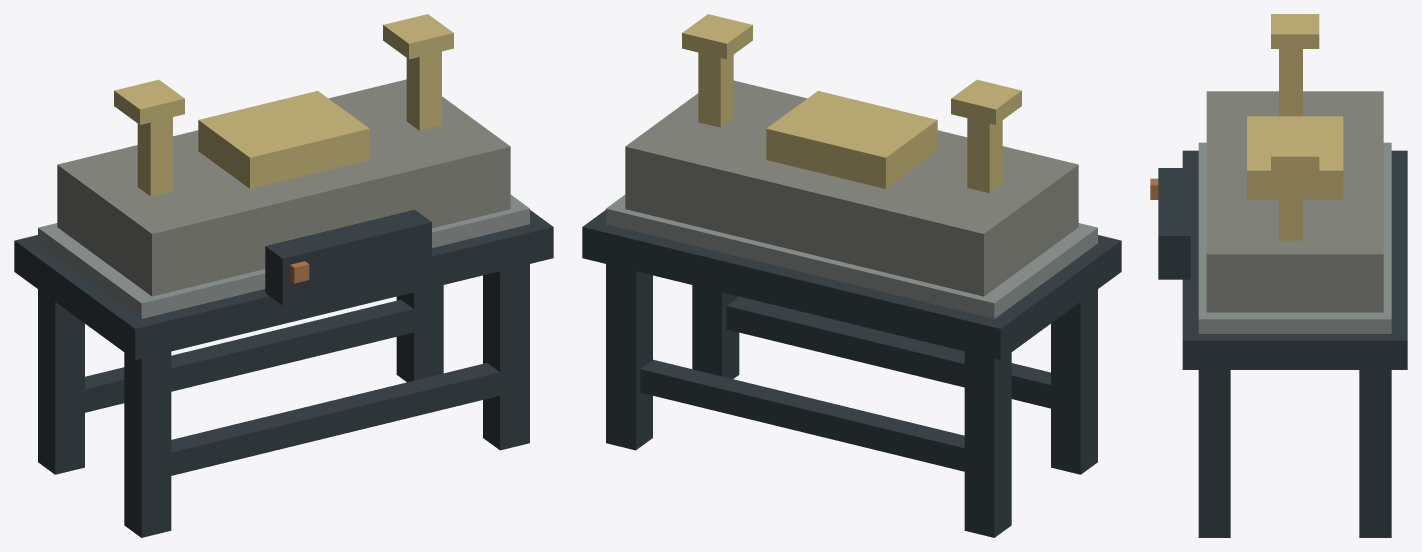
The model's file is consecration_table.glb.
The picture shows the model from 3 angles, left to right: view 1: azimuth 30°, elevation 25°; view 2: azimuth 150°, elevation 25°; view 3: azimuth 270°, elevation 25°; orthographic projection. The views are drawn at different scales.
Parts seen in each view (by area): view 1: consecration_table/work_surface, consecration_table/frame; view 2: consecration_table/work_surface, consecration_table/frame; view 3: consecration_table/work_surface, consecration_table/frame.
Boxes of the visible parts, x1,y1,x2,y2 form: consecration_table/work_surface: (38, 14, 529, 318); consecration_table/frame: (14, 210, 553, 537); consecration_table/work_surface: (606, 14, 1097, 318); consecration_table/frame: (582, 210, 1121, 537); consecration_table/work_surface: (1150, 14, 1391, 333); consecration_table/frame: (1182, 150, 1407, 537).
Size of the model in its own units: 1.75 by 1.56 by 1.
